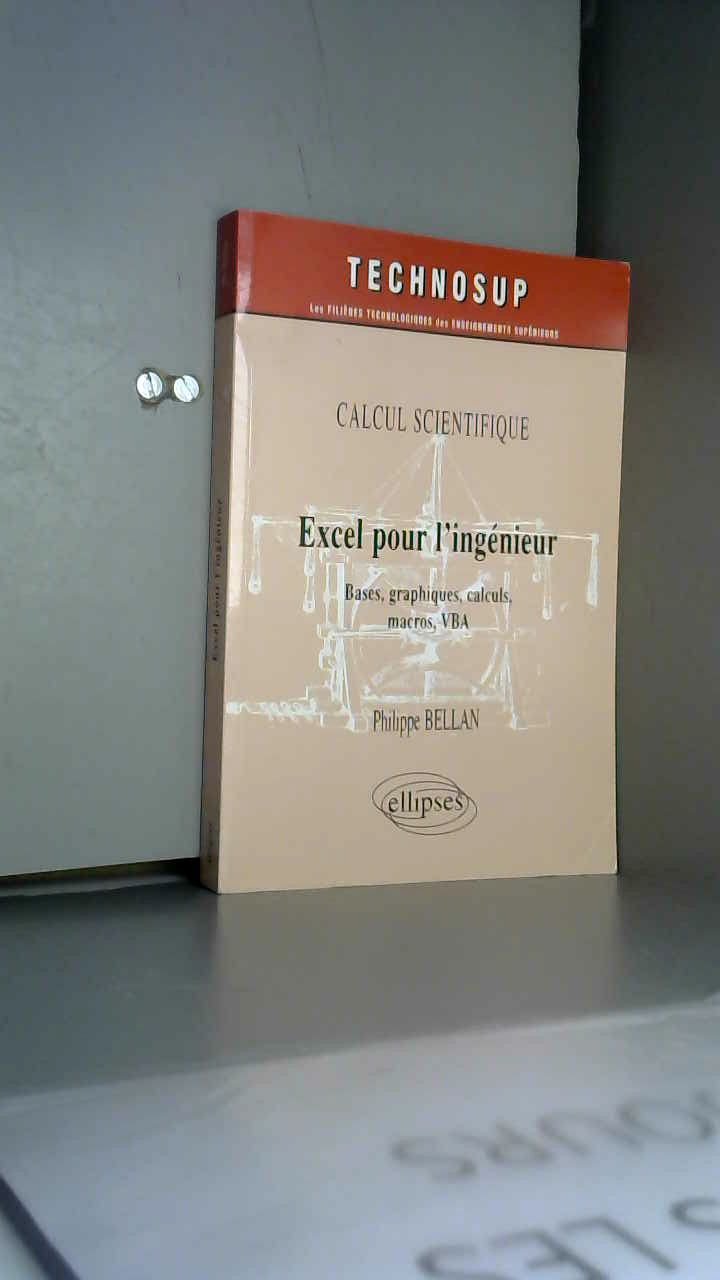book: (170, 180, 720, 939)
